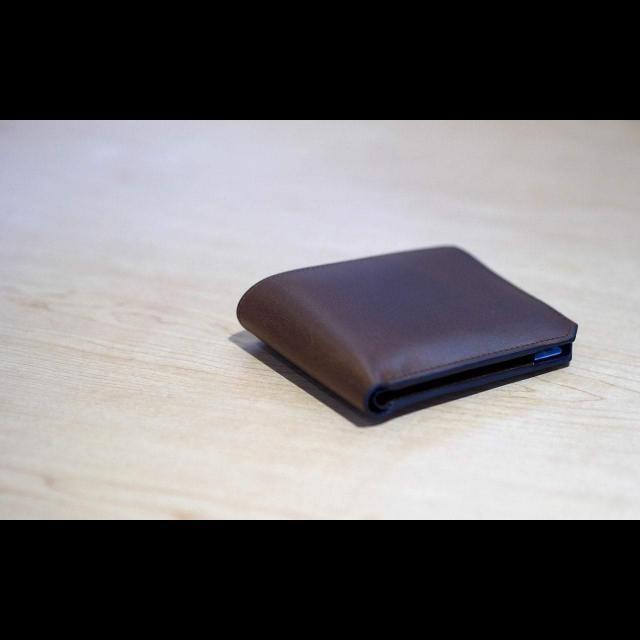Wallet: (230, 242, 580, 418)
